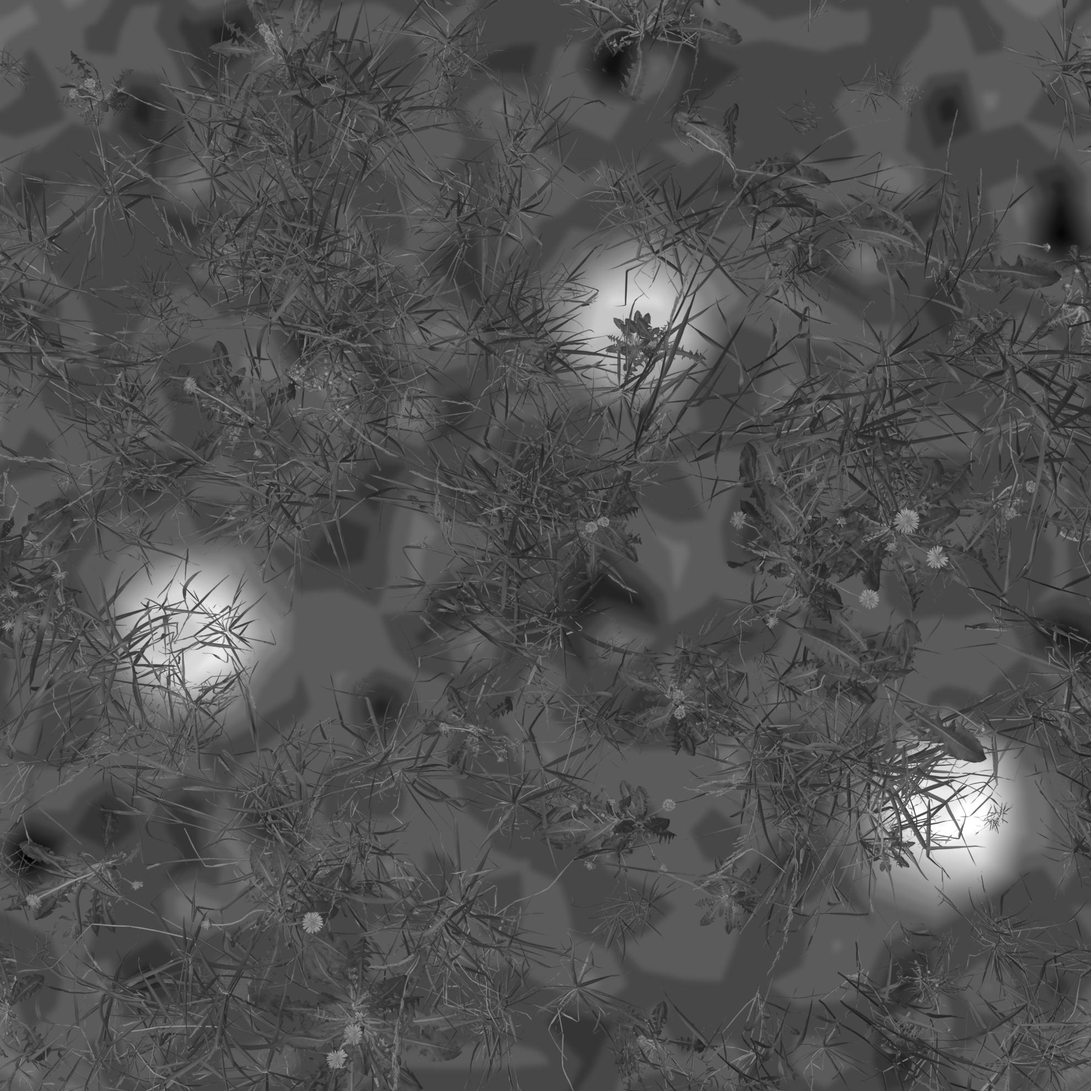landmine: (118, 543, 284, 718), (868, 729, 1031, 885), (564, 247, 700, 380)
